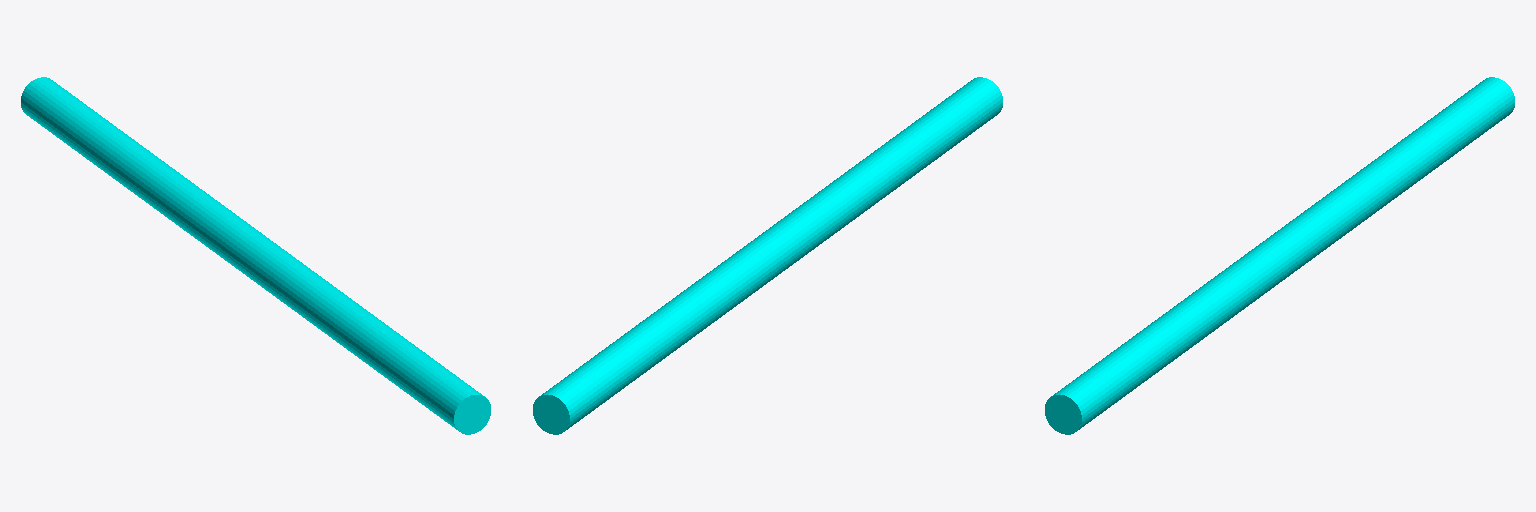
robot.urdf — lbr_iiwa:
<?xml version="1.0" ?>
<!-- ======================================================================= -->
<!-- | This document was autogenerated by xacro from lbr_iiwa.urdf.xacro   | -->
<!-- | Original xacro: https://github.com/rtkg/lbr_iiwa/archive/master.zip | -->
<!-- | EDITING THIS FILE BY HAND IS NOT RECOMMENDED                        | -->
<!-- | Changes ([author]):                                                 | -->
<!-- |   * Removed gazebo tags.                                            | -->
<!-- |   * Removed unused materials.                                       | -->
<!-- |   * Made mesh paths relative.                                       | -->
<!-- |   * Removed material fields from collision segments.                | -->
<!-- |   * Removed the self_collision_checking segment.                    | -->
<!-- |   * Removed transmission segments, since they didn't match the      | -->
<!-- |     convention, will have to added back later.                      | -->
<!-- ======================================================================= -->
<!--LICENSE:                                                                 -->
<!--Copyright (c) 2015, [author] & [author], AASS Research Center,  -->
<!--Orebro University, Sweden                                                -->
<!--All rights reserved.                                                     -->
<!--                                                                         -->
<!--Redistribution and use in source and binary forms, with or without       -->
<!--modification, are permitted provided that the following conditions are   -->
<!--met:                                                                     -->
<!--                                                                         -->
<!--1. Redistributions of source code must retain the above copyright notice,-->
<!--   this list of conditions and the following disclaimer.                 -->
<!--                                                                         -->
<!--2. Redistributions in binary form must reproduce the above copyright     -->
<!--   notice, this list of conditions and the following disclaimer in the   -->
<!--   documentation and/or other materials provided with the distribution.  -->
<!--                                                                         -->
<!--THIS SOFTWARE IS PROVIDED BY THE COPYRIGHT [author] "AS  -->
<!--IS" AND ANY EXPRESS OR IMPLIED WARRANTIES, INCLUDING, BUT NOT LIMITED TO,-->
<!--THE IMPLIED WARRANTIES OF MERCHANTABILITY AND FITNESS FOR A PARTICULAR   -->
<!--PURPOSE ARE DISCLAIMED. IN NO EVENT SHALL THE COPYRIGHT [author]        -->
<!--CONTRIBUTORS BE LIABLE FOR ANY DIRECT, INDIRECT, INCIDENTAL, SPECIAL,    -->
<!--EXEMPLARY, OR CONSEQUENTIAL DAMAGES (INCLUDING, BUT NOT LIMITED TO,      -->
<!--PROCUREMENT OF SUBSTITUTE GOODS OR SERVICES; LOSS OF USE, DATA, OR       -->
<!--PROFITS; OR BUSINESS INTERRUPTION) HOWEVER CAUSED AND ON ANY THEORY OF   -->
<!--LIABILITY, WHETHER IN CONTRACT, STRICT LIABILITY, OR TORT (INCLUDING     -->
<!--NEGLIGENCE OR OTHERWISE) ARISING IN ANY WAY OUT OF THE USE OF THIS       -->
<!--SOFTWARE, EVEN IF ADVISED OF THE POSSIBILITY OF SUCH DAMAGE.             -->
<robot name="lbr_iiwa" xmlns:xacro="http://www.ros.org/wiki/xacro">
  <!-- Import Rviz colors -->
  <material name="Grey">
    <color rgba="0.2 0.2 0.2 1.0"/>
  </material>
  <material name="Orange">
    <color rgba="1.0 0.423529411765 0.0392156862745 1.0"/>
  </material>
  <material name="Blue">
  <color rgba="0.5 0.7 1.0 1.0"/>      
</material>

  <!--Import the lbr iiwa macro -->
  <!--Import Transmissions -->
  <!--Include Utilities -->
  <!--The following macros are adapted from the LWR 4 definitions of the RCPRG - https://github.com/RCPRG-ros-pkg/lwr_robot -->
  <!--Little helper macros to define the inertia matrix needed for links.-->
  <!--Cuboid-->
  <!--Cylinder: length is along the y-axis! -->
  <!--lbr-->
  <link name="lbr_iiwa_link_0">
    <inertial>
      <origin rpy="0 0 0" xyz="-0.1 0 0.07"/>
      <!--Increase mass from 5 Kg original to provide a stable base to carry the
          arm.-->
      <mass value="0.0"/>
      <inertia ixx="0.05" ixy="0" ixz="0" iyy="0.06" iyz="0" izz="0.03"/>
    </inertial>
    <visual>
      <origin rpy="0 0 0" xyz="0 0 0"/>
      <geometry>
        <mesh filename="meshes/link_0.obj"/>
      </geometry>
      <material name="Grey"/>
    </visual>
    <collision>
      <origin rpy="0 0 0" xyz="0 0 0"/>
      <geometry>
        <mesh filename="meshes/link_0.stl"/>
      </geometry>
    </collision>
  </link>
  <!-- joint between link_0 and link_1 -->
  <joint name="lbr_iiwa_joint_1" type="revolute">
    <parent link="lbr_iiwa_link_0"/>
    <child link="lbr_iiwa_link_1"/>
    <origin rpy="0 0 0" xyz="0 0 0.1575"/>
    <axis xyz="0 0 1"/>
    <limit effort="300" lower="-2.96705972839" upper="2.96705972839" velocity="10"/>
    <dynamics damping="0.5"/>
  </joint>
  <link name="lbr_iiwa_link_1">
    <inertial>
      <origin rpy="0 0 0" xyz="0 -0.03 0.12"/>
      <mass value="4"/>
      <inertia ixx="0.1" ixy="0" ixz="0" iyy="0.09" iyz="0" izz="0.02"/>
    </inertial>
    <visual>
      <origin rpy="0 0 0" xyz="0 0 0"/>
      <geometry>
        <mesh filename="meshes/link_1.obj"/>
      </geometry>
      <material name="Blue"/>
    </visual>
    <collision>
      <origin rpy="0 0 0" xyz="0 0 0"/>
      <geometry>
        <mesh filename="meshes/link_1.stl"/>
      </geometry>
    </collision>
  </link>
  <!-- joint between link_1 and link_2 -->
  <joint name="lbr_iiwa_joint_2" type="revolute">
    <parent link="lbr_iiwa_link_1"/>
    <child link="lbr_iiwa_link_2"/>
    <origin rpy="1.57079632679   0 3.14159265359" xyz="0 0 0.2025"/>
    <axis xyz="0 0 1"/>
    <limit effort="300" lower="-2.09439510239" upper="2.09439510239" velocity="10"/>
    <dynamics damping="0.5"/>
  </joint>
  <link name="lbr_iiwa_link_2">
    <inertial>
      <origin rpy="0 0 0" xyz="0.0003 0.059 0.042"/>
      <mass value="4"/>
      <inertia ixx="0.05" ixy="0" ixz="0" iyy="0.018" iyz="0" izz="0.044"/>
    </inertial>
    <visual>
      <origin rpy="0 0 0" xyz="0 0 0"/>
      <geometry>
        <mesh filename="meshes/link_2.obj"/>
      </geometry>
      <material name="Blue"/>
    </visual>
    <collision>
      <origin rpy="0 0 0" xyz="0 0 0"/>
      <geometry>
        <mesh filename="meshes/link_2.stl"/>
      </geometry>
    </collision>
  </link>
  <!-- joint between link_2 and link_3 -->
  <joint name="lbr_iiwa_joint_3" type="revolute">
    <parent link="lbr_iiwa_link_2"/>
    <child link="lbr_iiwa_link_3"/>
    <origin rpy="1.57079632679 0 3.14159265359" xyz="0 0.2045 0"/>
    <axis xyz="0 0 1"/>
    <limit effort="300" lower="-2.96705972839" upper="2.96705972839" velocity="10"/>
    <dynamics damping="0.5"/>
  </joint>
  <link name="lbr_iiwa_link_3">
    <inertial>
      <origin rpy="0 0 0" xyz="0 0.03 0.13"/>
      <mass value="3"/>
      <inertia ixx="0.08" ixy="0" ixz="0" iyy="0.075" iyz="0" izz="0.01"/>
    </inertial>
    <visual>
      <origin rpy="0 0 0" xyz="0 0 0"/>
      <geometry>
        <mesh filename="meshes/link_3.obj"/>
      </geometry>
      <material name="Orange"/>
    </visual>
    <collision>
      <origin rpy="0 0 0" xyz="0 0 0"/>
      <geometry>
        <mesh filename="meshes/link_3.stl"/>
      </geometry>
    </collision>
  </link>
  <!-- joint between link_3 and link_4 -->
  <joint name="lbr_iiwa_joint_4" type="revolute">
    <parent link="lbr_iiwa_link_3"/>
    <child link="lbr_iiwa_link_4"/>
    <origin rpy="1.57079632679 0 0" xyz="0 0 0.2155"/>
    <axis xyz="0 0 1"/>
    <limit effort="300" lower="-2.09439510239" upper="2.09439510239" velocity="10"/>
    <dynamics damping="0.5"/>
  </joint>
  <link name="lbr_iiwa_link_4">
    <inertial>
      <origin rpy="0 0 0" xyz="0 0.067 0.034"/>
      <mass value="2.7"/>
      <inertia ixx="0.03" ixy="0" ixz="0" iyy="0.01" iyz="0" izz="0.029"/>
    </inertial>
    <visual>
      <origin rpy="0 0 0" xyz="0 0 0"/>
      <geometry>
        <mesh filename="meshes/link_4.obj"/>
      </geometry>
      <material name="Blue"/>
    </visual>
    <collision>
      <origin rpy="0 0 0" xyz="0 0 0"/>
      <geometry>
        <mesh filename="meshes/link_4.stl"/>
      </geometry>
    </collision>
  </link>
  <!-- joint between link_4 and link_5 -->
  <joint name="lbr_iiwa_joint_5" type="revolute">
    <parent link="lbr_iiwa_link_4"/>
    <child link="lbr_iiwa_link_5"/>
    <origin rpy="-1.57079632679 3.14159265359 0" xyz="0 0.1845 0"/>
    <axis xyz="0 0 1"/>
    <limit effort="300" lower="-2.96705972839" upper="2.96705972839" velocity="10"/>
    <dynamics damping="0.5"/>
  </joint>
  <link name="lbr_iiwa_link_5">
    <inertial>
      <origin rpy="0 0 0" xyz="0.0001 0.021 0.076"/>
      <mass value="1.7"/>
      <inertia ixx="0.02" ixy="0" ixz="0" iyy="0.018" iyz="0" izz="0.005"/>
    </inertial>
    <visual>
      <origin rpy="0 0 0" xyz="0 0 0"/>
      <geometry>
        <mesh filename="meshes/link_5.obj"/>
      </geometry>
      <material name="Blue"/>
    </visual>
    <collision>
      <origin rpy="0 0 0" xyz="0 0 0"/>
      <geometry>
        <mesh filename="meshes/link_5.stl"/>
      </geometry>
    </collision>
  </link>
  <!-- joint between link_5 and link_6 -->
  <joint name="lbr_iiwa_joint_6" type="revolute">
    <parent link="lbr_iiwa_link_5"/>
    <child link="lbr_iiwa_link_6"/>
    <origin rpy="1.57079632679 0 0" xyz="0 0 0.2155"/>
    <axis xyz="0 0 1"/>
    <limit effort="300" lower="-2.09439510239" upper="2.09439510239" velocity="10"/>
    <dynamics damping="0.5"/>
  </joint>
  <link name="lbr_iiwa_link_6">
    <inertial>
      <origin rpy="0 0 0" xyz="0 0.0006 0.0004"/>
      <mass value="1.8"/>
      <inertia ixx="0.005" ixy="0" ixz="0" iyy="0.0036" iyz="0" izz="0.0047"/>
    </inertial>
    <visual>
      <origin rpy="0 0 0" xyz="0 0 0"/>
      <geometry>
        <mesh filename="meshes/link_6.obj"/>
      </geometry>
      <material name="Orange"/>
    </visual>
    <collision>
      <origin rpy="0 0 0" xyz="0 0 0"/>
      <geometry>
        <mesh filename="meshes/link_6.stl"/>
      </geometry>
    </collision>
  </link>
  <!-- joint between link_6 and link_7 -->
  <joint name="lbr_iiwa_joint_7" type="revolute">
    <parent link="lbr_iiwa_link_6"/>
    <child link="lbr_iiwa_link_7"/>
    <origin rpy="-1.57079632679 3.14159265359 0" xyz="0 0.081 0"/>
    <axis xyz="0 0 1"/>
    <limit effort="300" lower="-3.05432619099" upper="3.05432619099" velocity="10"/>
    <dynamics damping="0.5"/>
  </joint>
  <link name="lbr_iiwa_link_7">
    <inertial>
      <origin rpy="0 0 0" xyz="0 0 0.02"/>
      <mass value="0.3"/>
      <inertia ixx="0.001" ixy="0" ixz="0" iyy="0.001" iyz="0" izz="0.001"/>
    </inertial>
    <visual>
      <origin rpy="0 0 0" xyz="0 0 0"/>
      <geometry>
        <mesh filename="meshes/link_7.obj"/>
      </geometry>
      <material name="Grey"/>
    </visual>
    <collision>
      <origin rpy="0 0 0" xyz="0 0 0"/>
      <geometry>
        <mesh filename="meshes/link_7.stl"/>
      </geometry>
    </collision>
  </link>

  <joint name="needle_joint" type="prismatic">
    <parent link="lbr_iiwa_link_7"/>
    <child link="needle"/>
    <origin rpy="-1.57079632679 3.14159265359 0" xyz="0 0 0"/>
    <axis xyz="0 0 1"/>
    <limit effort="300" lower="-0.07" upper="0.07" velocity="10"/>
    <dynamics damping="0.5"/>
  </joint>

  <link name="needle">
   <inertial>
     <origin rpy="0 0 0" xyz="0 0.05 -0.1"/>
     <mass value="1"/>
     <inertia ixx="100"  ixy="0"  ixz="0" iyy="100" iyz="0" izz="100" />
   </inertial>

   <visual>
     <origin rpy="0 0 0" xyz="0 0.05 -0.1"/> 
     <!-- xyz="0 0.05 -0.06" -->
     <geometry>
       <cylinder radius="0.005" length="0.2"/>
     </geometry>
     <material name="Cyan">
       <color rgba="0 1.0 1.0 1.0"/>
     </material>
   </visual>

   <collision>
     <origin rpy="0 0 0" xyz="0 0.05 -0.1"/>
     <geometry>
       <cylinder radius="1" length="0.2"/>
     </geometry>
   </collision>
 </link>

  
</robot>

--- Render facts (derived) ---
3 views of the same robot in one strip: view 1: azimuth 30°, elevation 25°; view 2: azimuth 150°, elevation 25°; view 3: azimuth 330°, elevation 25° (orthographic).
Model lbr_iiwa with 9 links and 8 joints (7 revolute, 1 prismatic), rooted at lbr_iiwa_link_0, posed all joints at 0.
Links seen in each view (by area): view 1: needle; view 2: needle; view 3: needle.
Link boxes in pixels (x1=…): needle: x1=21, y1=77, x2=490, y2=434; needle: x1=533, y1=77, x2=1002, y2=434; needle: x1=1045, y1=77, x2=1514, y2=434.
Bounding box of the posed robot: 0.01 × 0.2 × 0.01 m (x, y, z).
Meshes: 8 distinct files referenced, 0 mesh visuals loaded (none loaded); not drawn: 8 (reference not matched to a file when rendering).